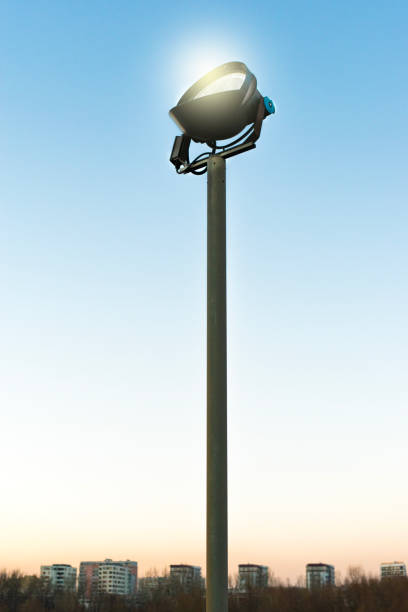light_pole: (204, 163, 229, 612)
